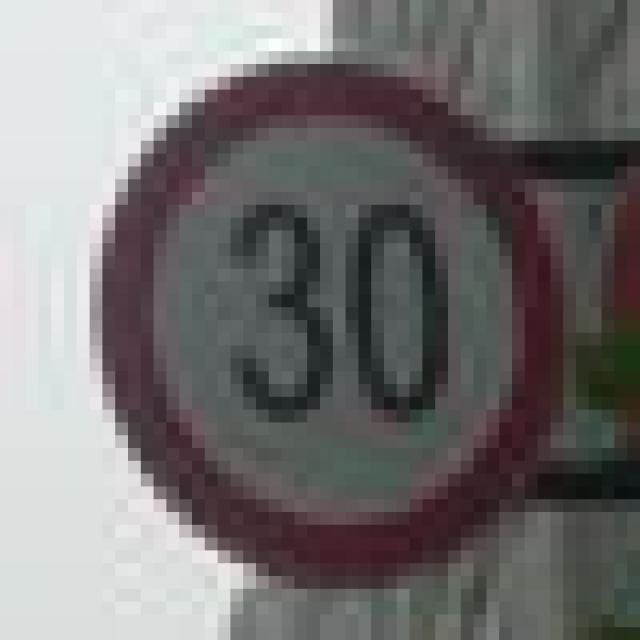SPEED_LIMIT_30: (64, 51, 563, 589)
